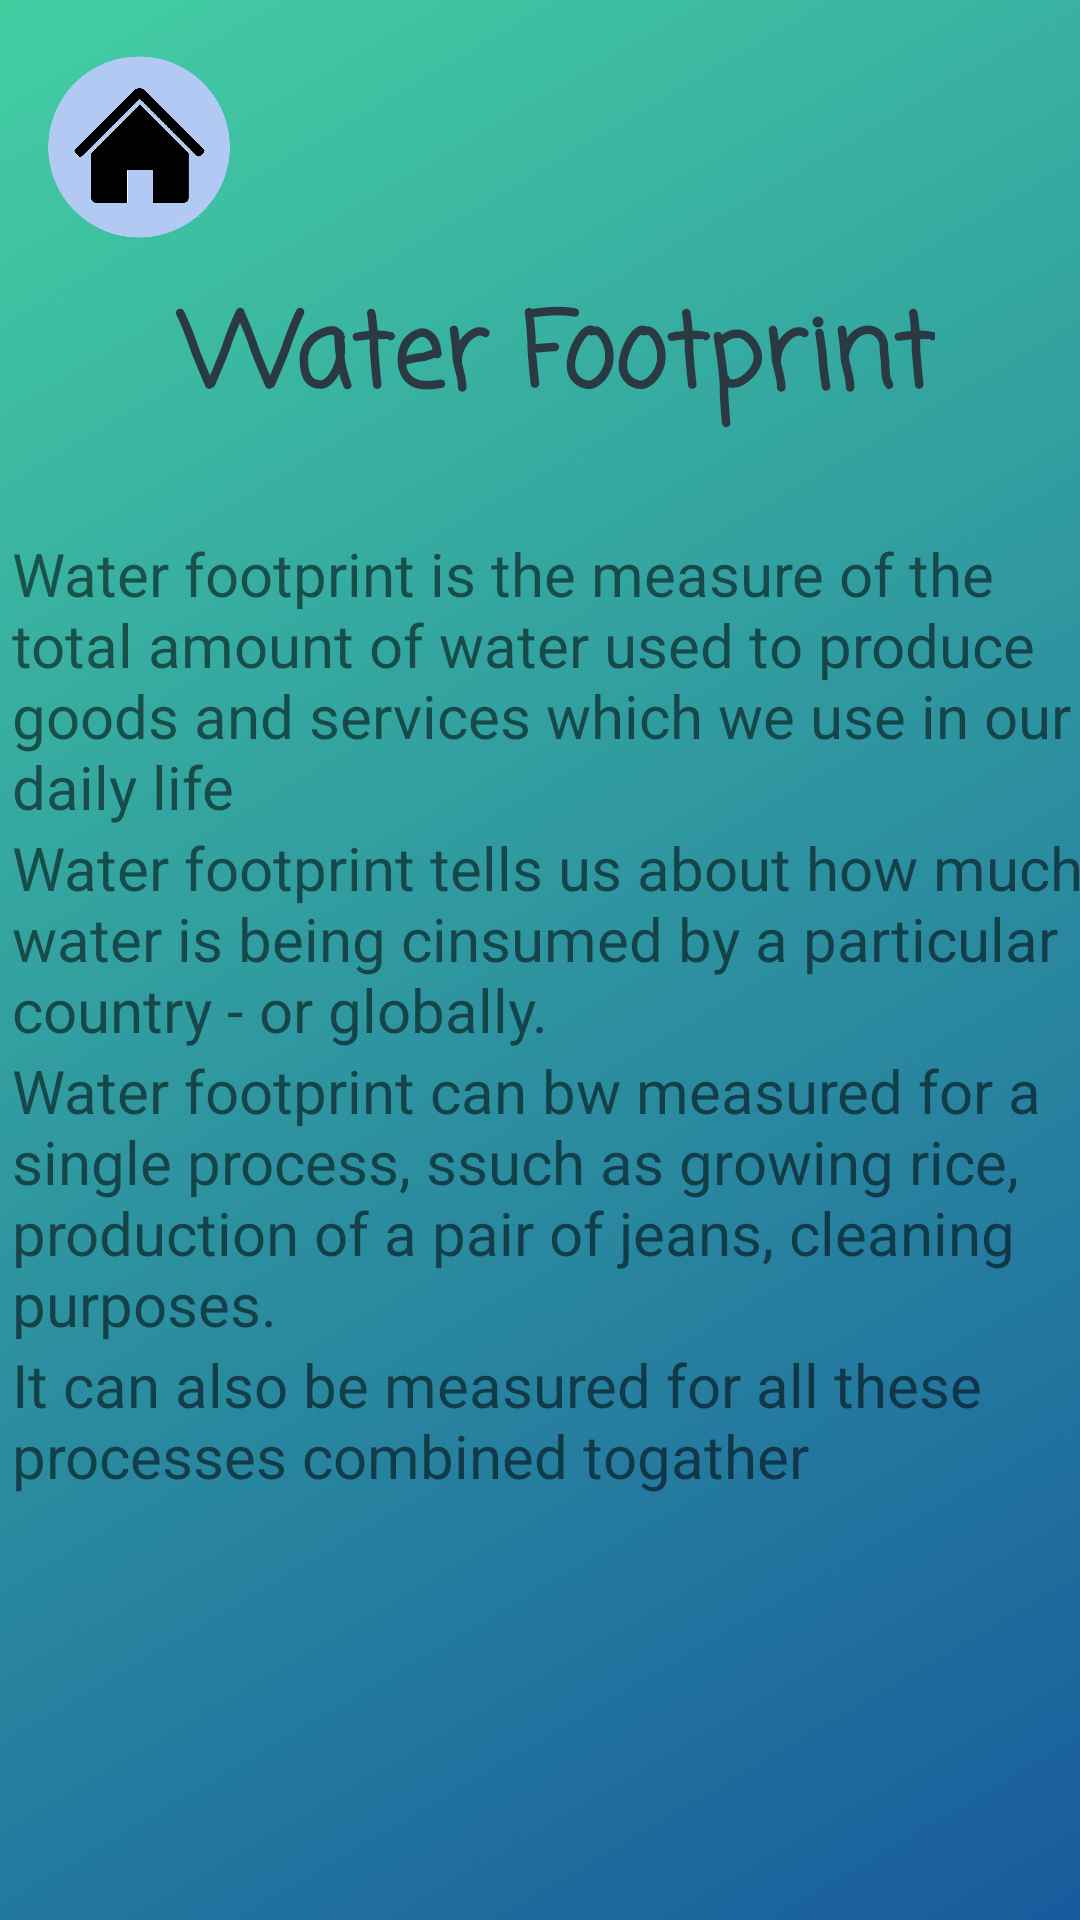

Icons on this 1080 x 1920 Android screen, each with the point to tap as point (x, y):
home: point (139, 147)
